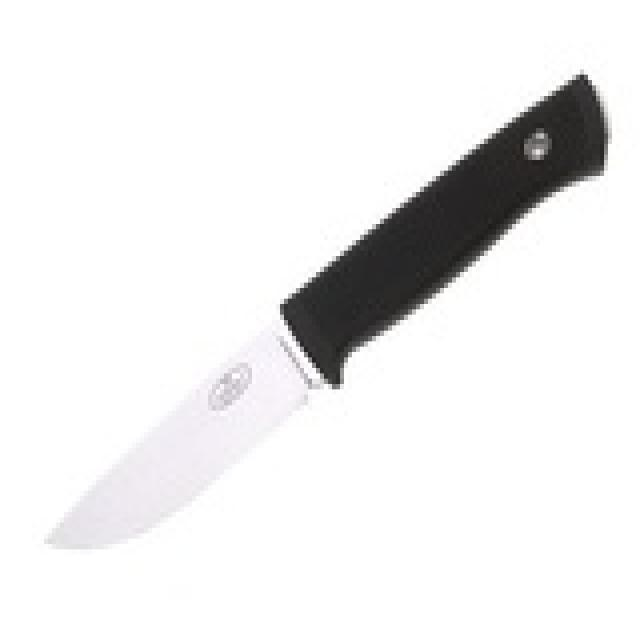Knife: (27, 53, 616, 554)
